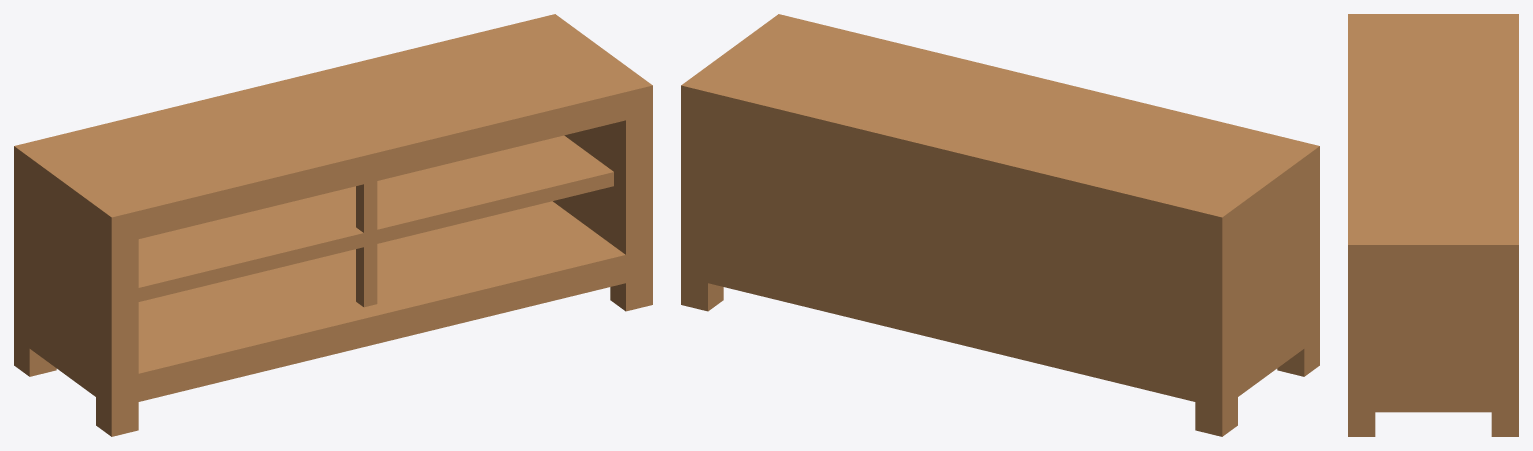
Rendered from kitCabinetTelevision.glb.
The picture shows the model from 3 angles, left to right: view 1: azimuth 30°, elevation 25°; view 2: azimuth 150°, elevation 25°; view 3: azimuth 270°, elevation 25°; orthographic projection. The views are drawn at different scales.
Visible parts, largest first — view 1: kitCabinetTelevision_wood; view 2: kitCabinetTelevision_wood; view 3: kitCabinetTelevision_wood.
Part boxes in pixels (x1,y1,x2,y2): kitCabinetTelevision_wood: (14,14,652,436); kitCabinetTelevision_wood: (681,14,1319,436); kitCabinetTelevision_wood: (1348,14,1518,436).
Bounding box in the file's own units: 1.6 × 0.62 × 0.5.
